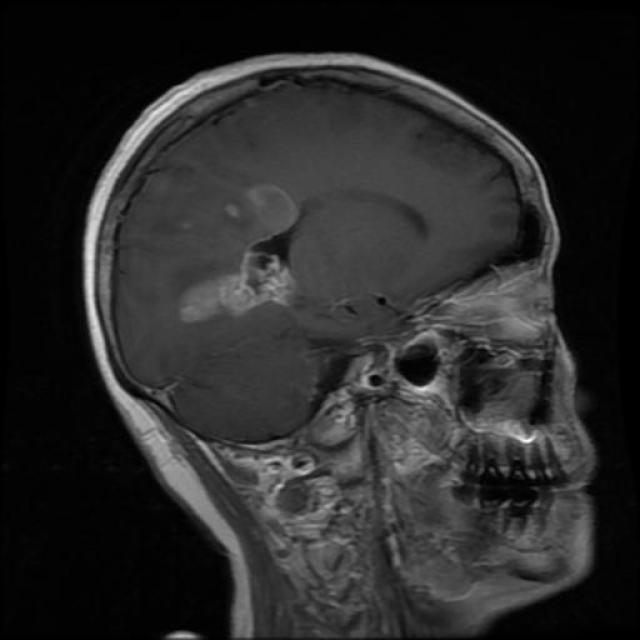glioma: (194, 184, 308, 308)
